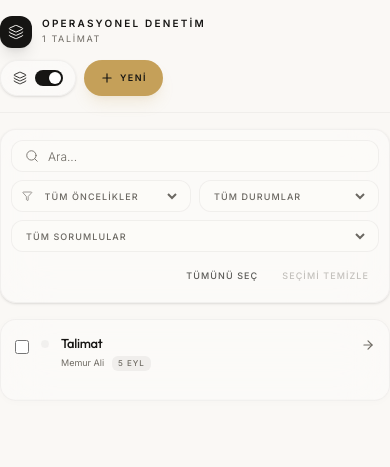
Test: TaskBoard — boş durum aktivasyon CTA'sı (P2-17) › bir filtre uygulanmışken sonuç boşsa "İlk Talimatı Oluştur" YERİNE "Filtreyi Temizle" gösterilir
This screenshot has width=390, height=467.
Select "İVEDI" in the dropdown named "Öncelik filtresi" at [110, 196], box [41,190,180,202]
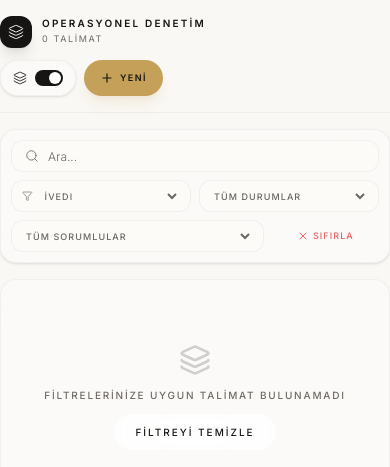
Now the button "Filtreyi Temizle" is shown, box [114,414,276,450]
Now the text "Filtrelerinize uygun talimat bulunamadı" is shown, box [44,388,346,402]
